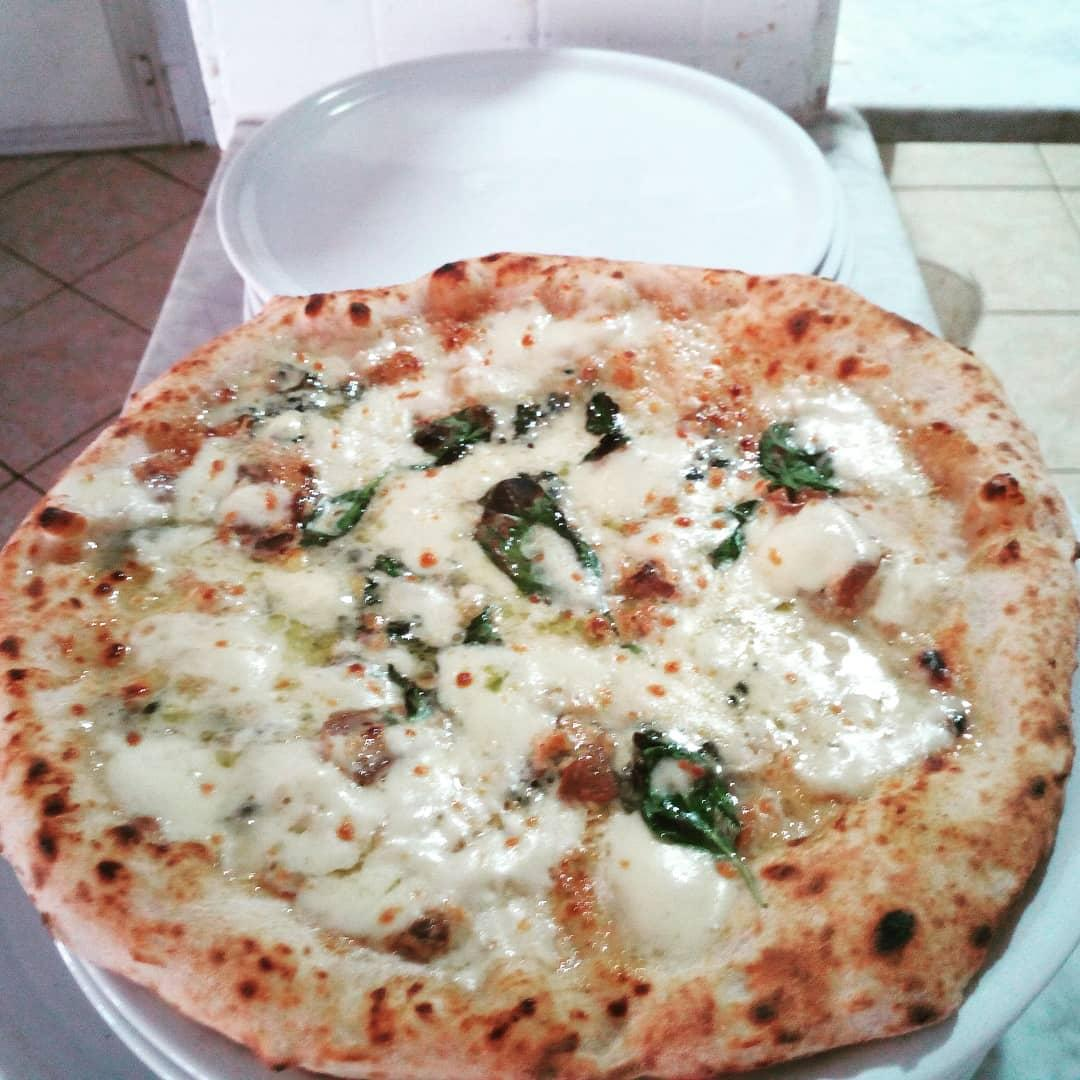Basil: (463, 467, 658, 666), (616, 726, 780, 918), (340, 544, 449, 677), (410, 383, 566, 466), (756, 418, 859, 516), (284, 457, 392, 550), (573, 391, 635, 469), (711, 501, 758, 577)
Pizza: (0, 247, 1080, 1080)
